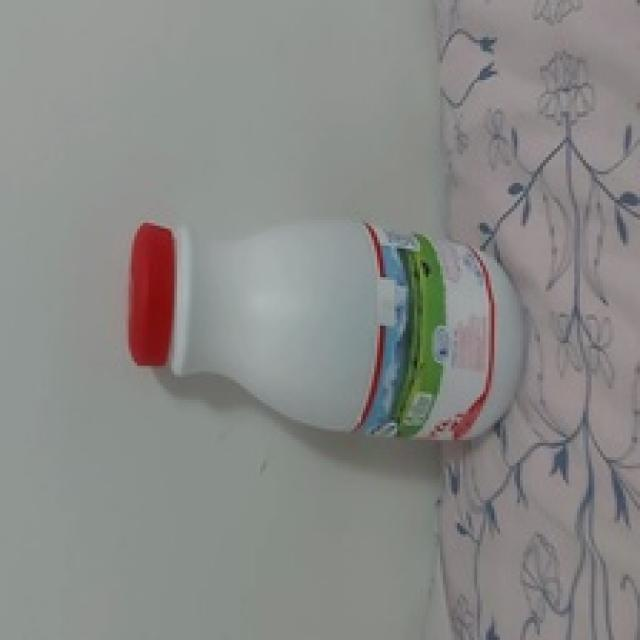Plastic: (130, 218, 525, 452)
